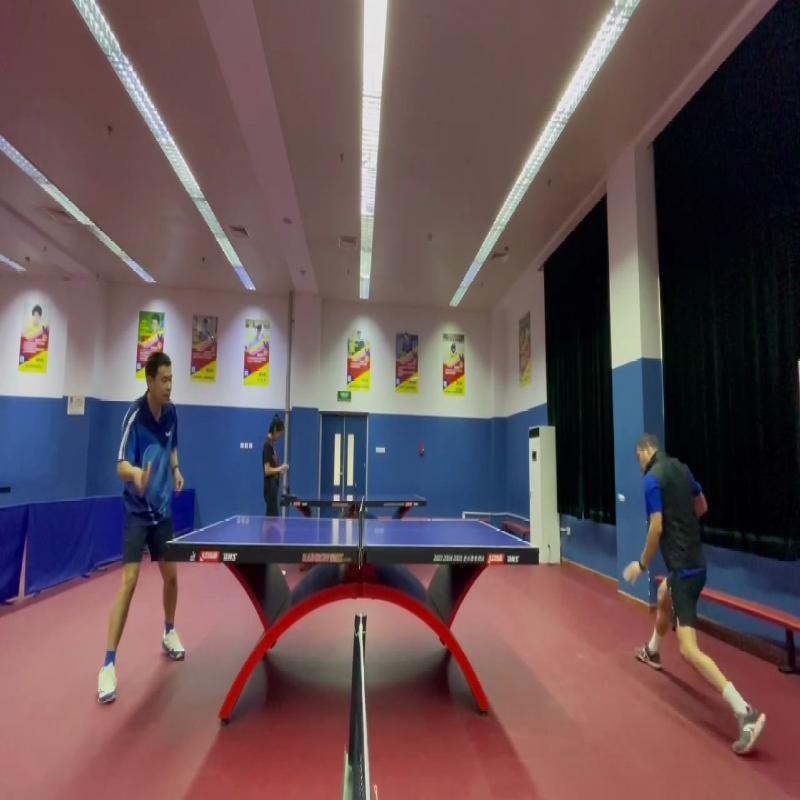bats: (135, 451, 159, 500)
